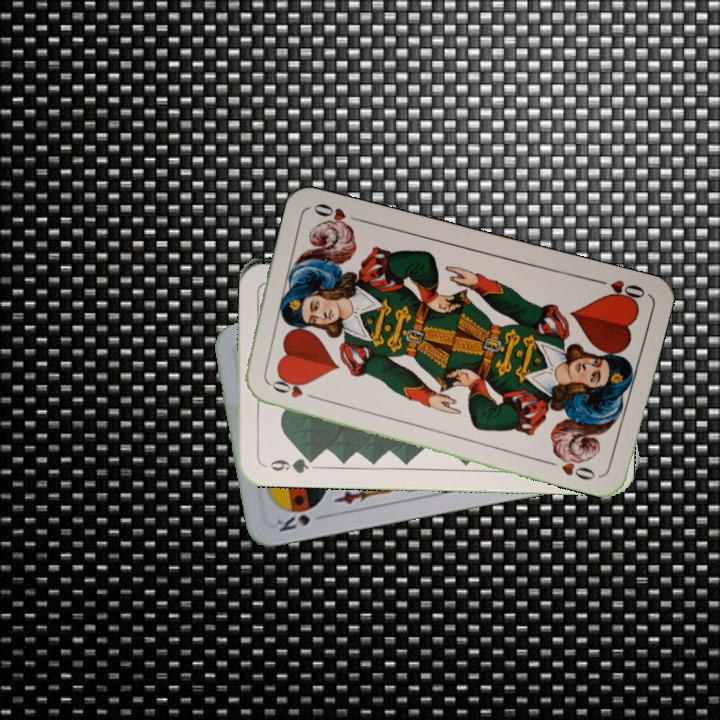G9: (267, 452, 318, 476)
HO: (591, 275, 648, 306), (264, 377, 322, 403)
SK: (272, 510, 330, 535)
